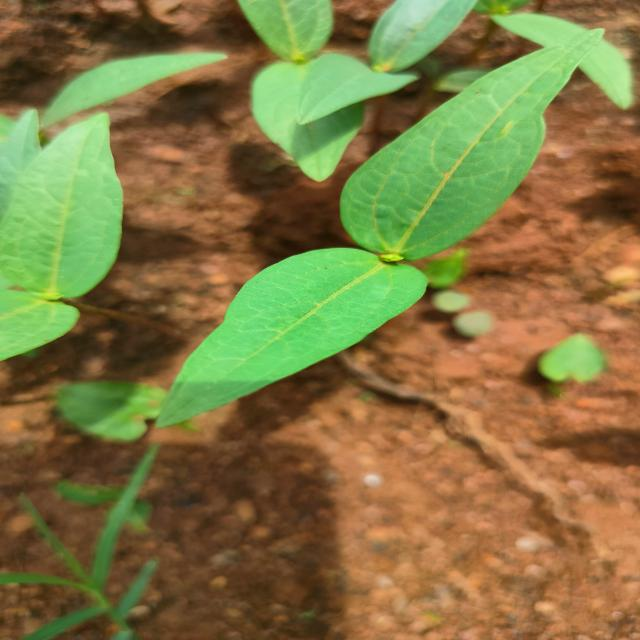Black gram_healthy: (336, 25, 619, 272), (151, 241, 422, 435), (4, 106, 122, 296), (247, 54, 365, 180)
